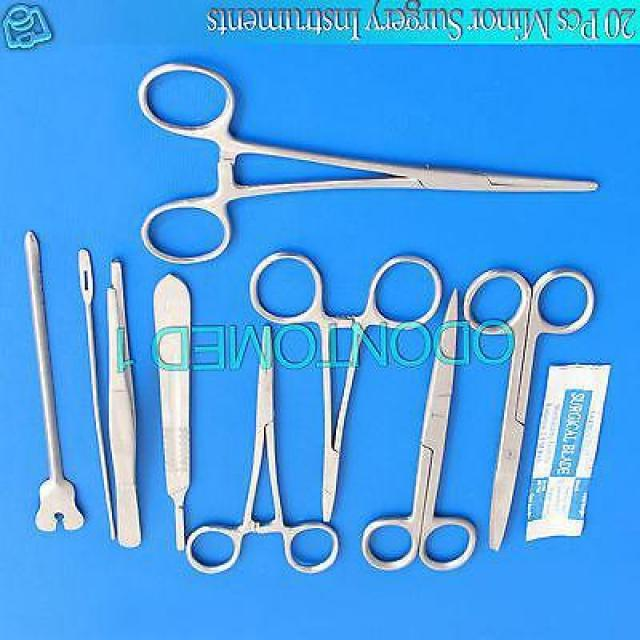Forceps: (104, 254, 146, 550)
Hemostat: (136, 59, 602, 267), (246, 248, 446, 525), (182, 322, 342, 580)
Mayo_metz: (461, 262, 597, 554), (358, 288, 479, 574)
Scalpel: (148, 271, 196, 554)
